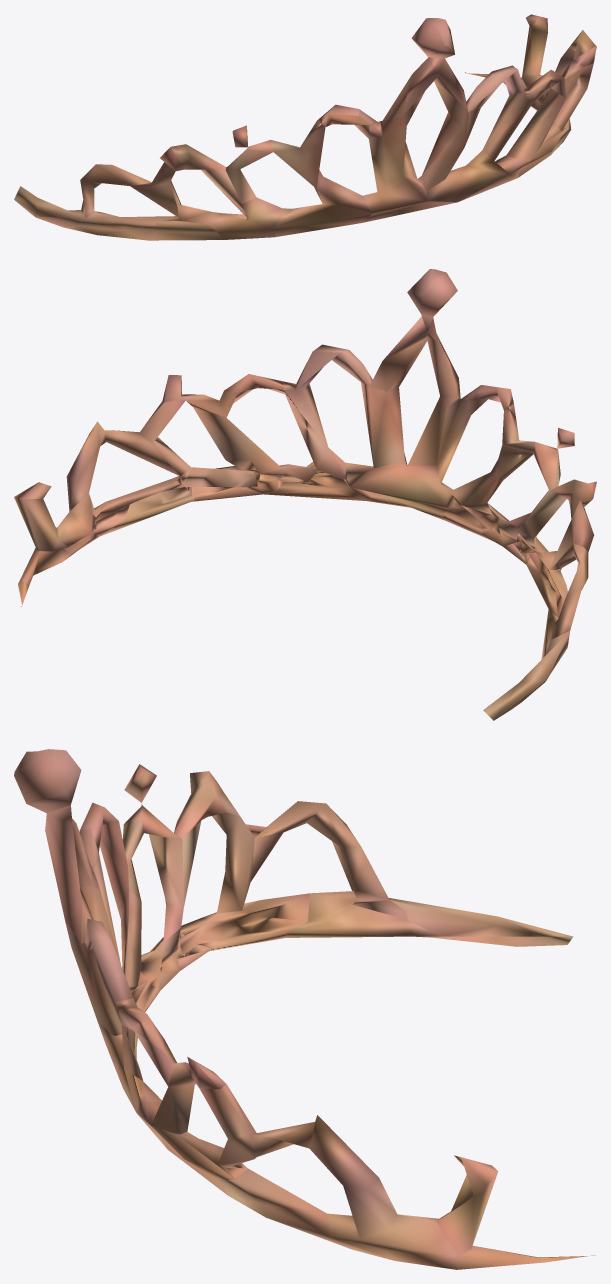
3 renders of one model, top to bottom at view 1: azimuth 30°, elevation 25°; view 2: azimuth 150°, elevation 25°; view 3: azimuth 270°, elevation 25°, orthographic. The views are drawn at different scales.
Parts seen in each view (by area): view 1: Pink-Tiara-04; view 2: Pink-Tiara-04; view 3: Pink-Tiara-04.
Part boxes in pixels (box(x1,y1,x2,y2)): Pink-Tiara-04: box(14, 14, 596, 240); Pink-Tiara-04: box(14, 269, 596, 720); Pink-Tiara-04: box(14, 749, 595, 1269).
Size of the model in its own units: 0.2669 by 0.126 by 0.1812.
1 material, 1 textured.
